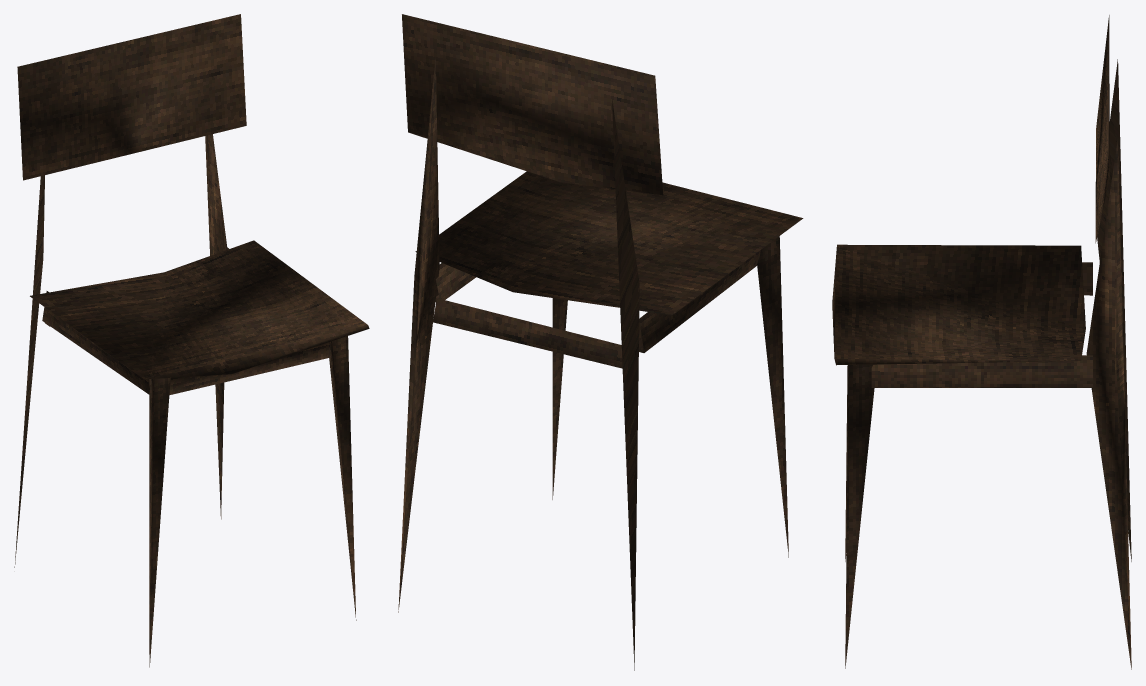
The model's file is chair_mp_3_1.glb.
3 views of the same model, side by side, from view 1: azimuth 30°, elevation 25°; view 2: azimuth 150°, elevation 25°; view 3: azimuth 270°, elevation 25° (orthographic). The views are drawn at different scales.
Visible parts, largest first — view 1: chair_mp_3_1; view 2: chair_mp_3_1; view 3: chair_mp_3_1.
Part boxes in pixels (x1=…): chair_mp_3_1: x1=14, y1=14, x2=369, y2=667; chair_mp_3_1: x1=398, y1=14, x2=803, y2=670; chair_mp_3_1: x1=832, y1=15, x2=1131, y2=669.
Size of the model in its own units: 0.4525 by 0.9922 by 0.4924.
1 material, 1 textured.
